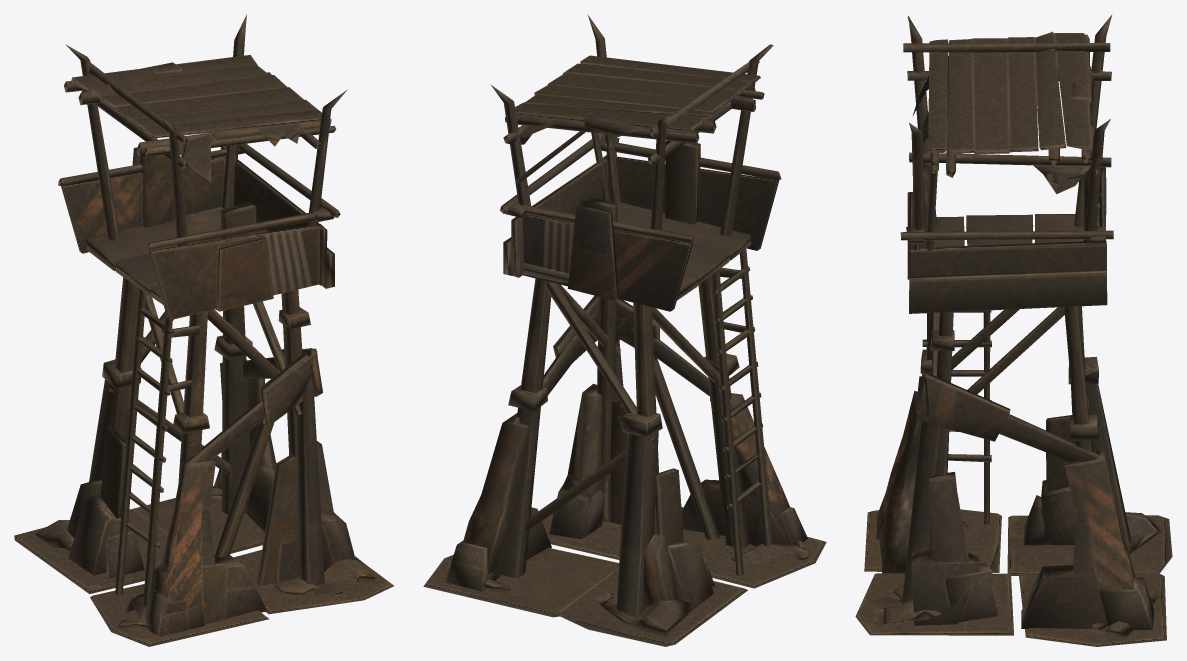
The model's file is Raider Watch Tower.glb.
3 views of the same model, side by side, from view 1: azimuth 30°, elevation 25°; view 2: azimuth 150°, elevation 25°; view 3: azimuth 270°, elevation 25° (orthographic). The views are drawn at different scales.
Bounding box in the file's own units: 1.17 × 2 × 1.11.
1 material, 1 textured.
